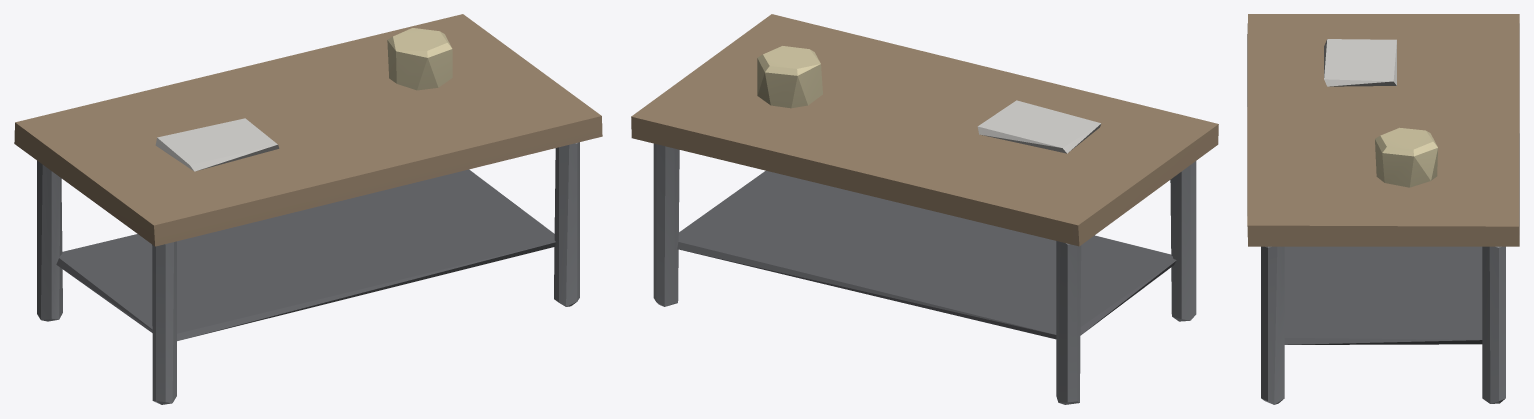
The model's file is furn_coffee_table__walnut_low.glb.
The picture shows the model from 3 angles, left to right: view 1: azimuth 30°, elevation 25°; view 2: azimuth 150°, elevation 25°; view 3: azimuth 270°, elevation 25°; orthographic projection. The views are drawn at different scales.
Size of the model in its own units: 1.09 by 0.5402 by 0.5904.
